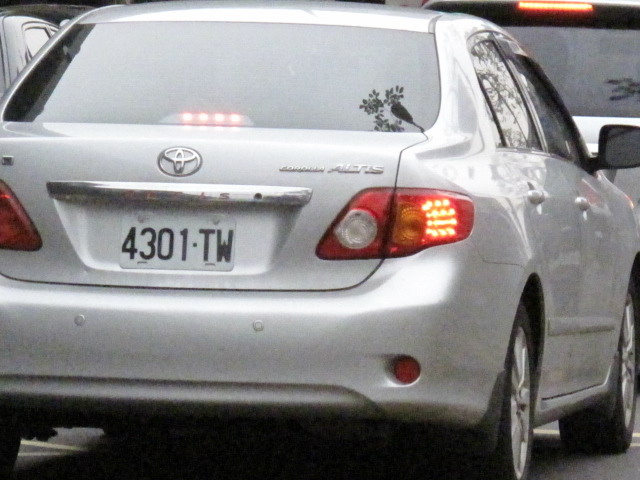plate: (118, 214, 238, 276)
